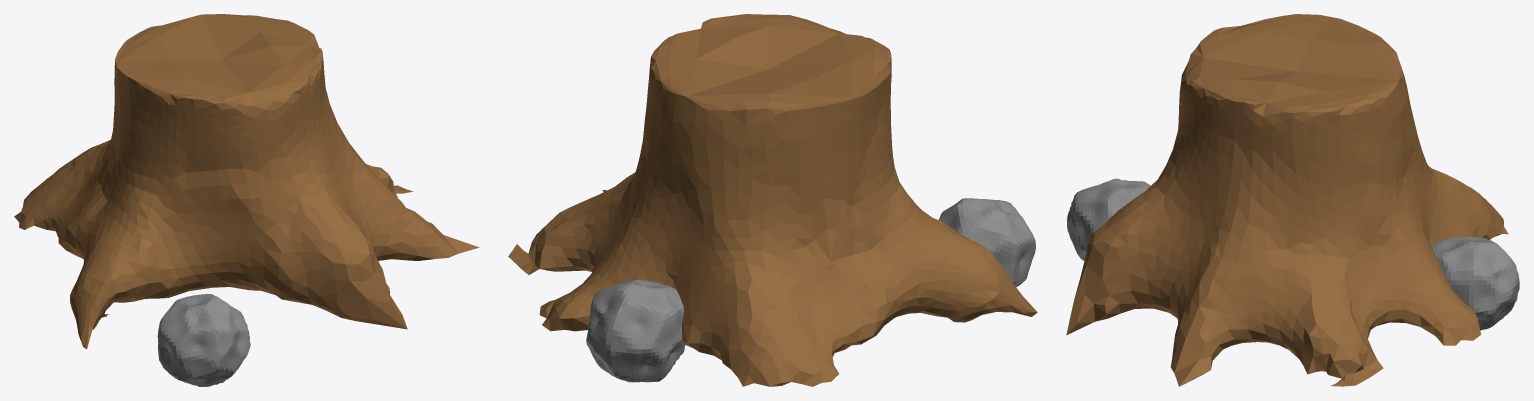
File: Trunk1.0.fbx
The picture shows the model from 3 angles, left to right: view 1: azimuth 30°, elevation 25°; view 2: azimuth 150°, elevation 25°; view 3: azimuth 270°, elevation 25°; orthographic projection. The views are drawn at different scales.
Parts seen in each view (by area): view 1: Trunk, Stone.001; view 2: Trunk, Stone, Stone.001; view 3: Trunk, Stone, Stone.001.
Boxes of the visible parts, x1,y1,x2,y2 form: Trunk: (14,14,479,349); Stone.001: (157,294,250,386); Trunk: (508,14,1037,386); Stone: (586,279,685,382); Stone.001: (939,198,1035,286); Trunk: (1066,14,1508,386); Stone: (1432,236,1519,330); Stone.001: (1067,178,1150,260).
Bounding box in the file's own units: 726 × 432 × 678.
